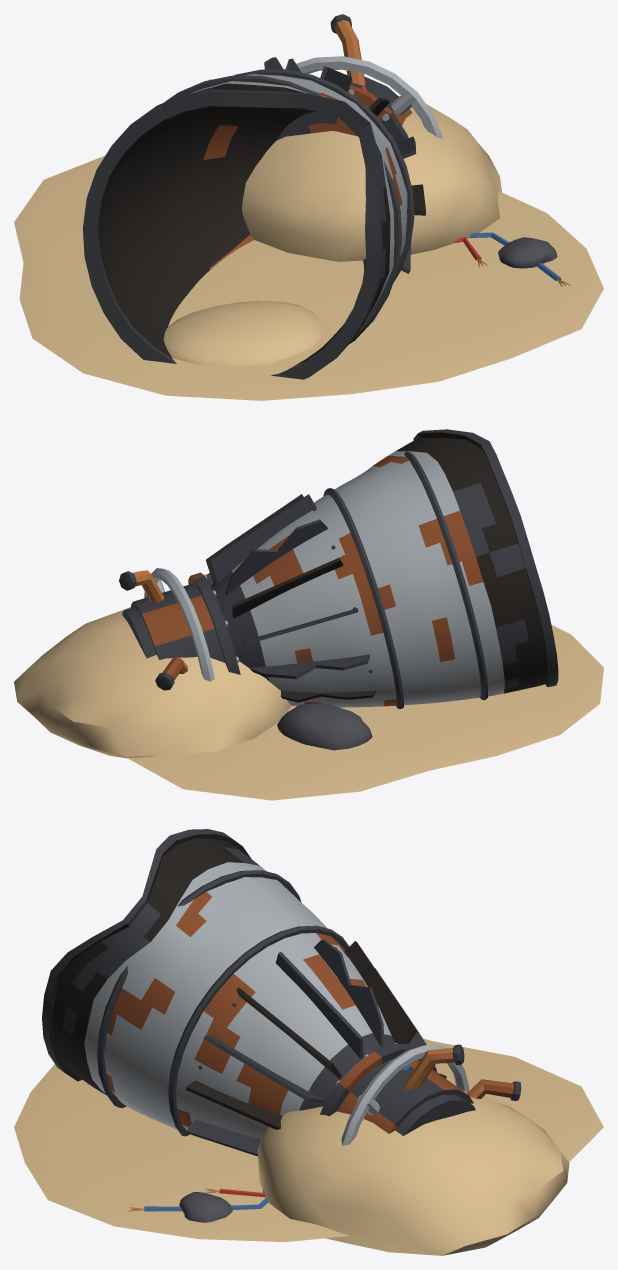
File: deco_salvage_engine_husk.fbx
3 views of the same model, one above another, from view 1: azimuth 30°, elevation 25°; view 2: azimuth 150°, elevation 25°; view 3: azimuth 270°, elevation 25° (orthographic). The views are drawn at different scales.
Parts seen in each view (by area): view 1: Salvage_EngineHusk_SandMound, Salvage_EngineHusk_Nozzle, Salvage_EngineHusk_Collar, Salvage_EngineHusk_Fins, Salvage_EngineHusk_Cables; view 2: Salvage_EngineHusk_Nozzle, Salvage_EngineHusk_SandMound, Salvage_EngineHusk_Collar, Salvage_EngineHusk_Fins; view 3: Salvage_EngineHusk_SandMound, Salvage_EngineHusk_Nozzle, Salvage_EngineHusk_Collar, Salvage_EngineHusk_Fins, Salvage_EngineHusk_Cables.
Part boxes in pixels (<box>): Salvage_EngineHusk_SandMound: <box>14,96,603,400</box>; Salvage_EngineHusk_Nozzle: <box>83,69,414,379</box>; Salvage_EngineHusk_Collar: <box>276,14,443,142</box>; Salvage_EngineHusk_Fins: <box>210,57,425,273</box>; Salvage_EngineHusk_Cables: <box>360,86,570,286</box>; Salvage_EngineHusk_Nozzle: <box>211,429,558,708</box>; Salvage_EngineHusk_SandMound: <box>14,607,603,800</box>; Salvage_EngineHusk_Collar: <box>119,568,240,690</box>; Salvage_EngineHusk_Fins: <box>206,494,375,702</box>; Salvage_EngineHusk_SandMound: <box>14,1038,603,1255</box>; Salvage_EngineHusk_Nozzle: <box>42,829,394,1140</box>; Salvage_EngineHusk_Collar: <box>320,1043,521,1145</box>; Salvage_EngineHusk_Fins: <box>186,939,426,1156</box>; Salvage_EngineHusk_Cables: <box>128,1064,446,1211</box>.
Bounding box in the file's own units: 390 × 184 × 404.
